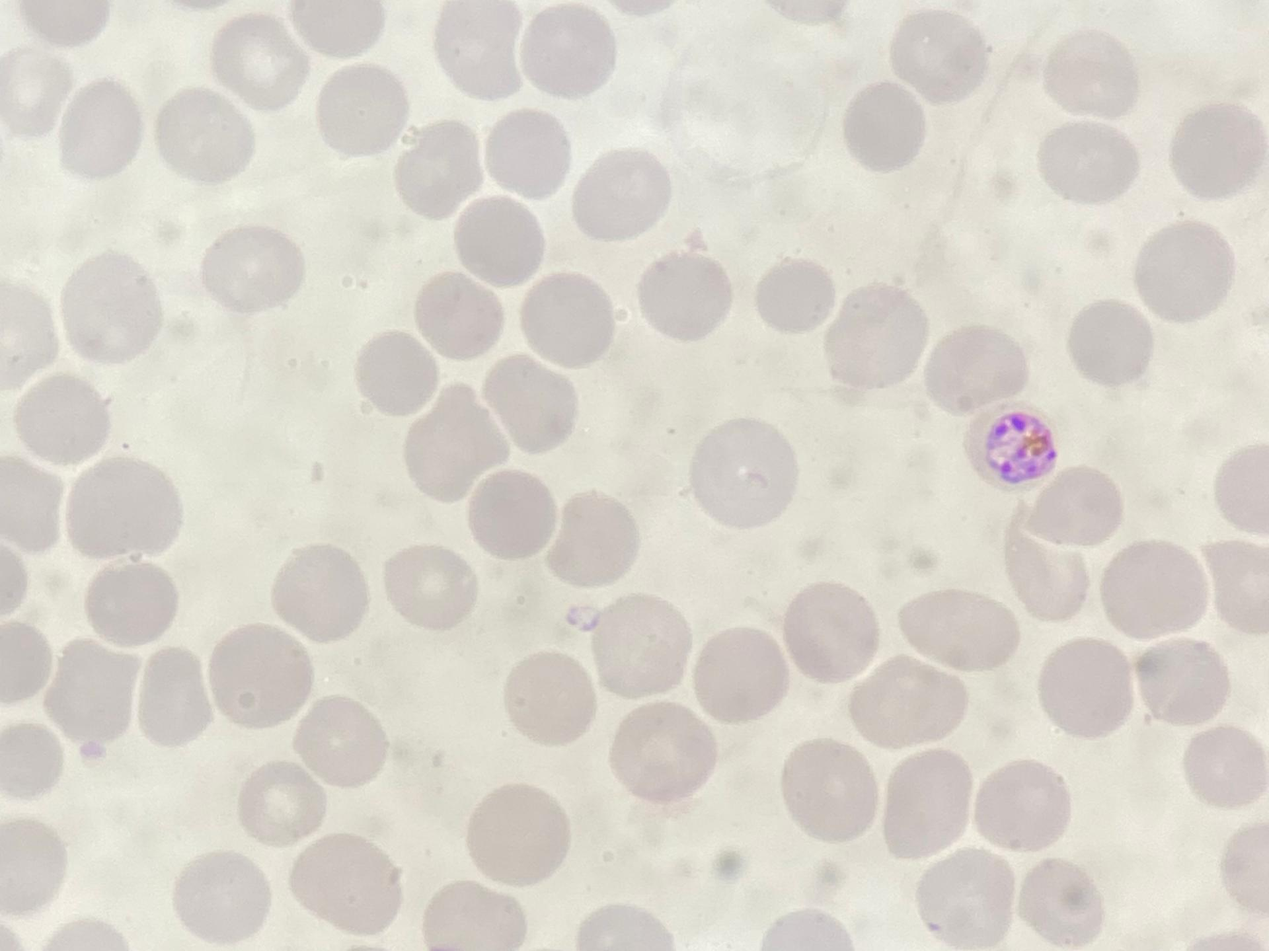Infected: (962, 403, 1059, 492)
Uninfected: (65, 454, 184, 562), (402, 385, 509, 502), (285, 831, 403, 936), (687, 418, 798, 528), (59, 250, 164, 364), (206, 623, 315, 730), (41, 636, 141, 749), (463, 783, 570, 888), (1099, 538, 1208, 641), (821, 285, 928, 389), (848, 656, 966, 749), (586, 593, 691, 697), (609, 701, 716, 803), (880, 748, 978, 858), (780, 738, 880, 845), (896, 587, 1019, 673), (1133, 220, 1236, 322), (781, 582, 882, 685), (913, 849, 1015, 950), (154, 86, 256, 186), (1037, 637, 1136, 738), (270, 543, 370, 642), (570, 146, 673, 242), (483, 352, 582, 451), (81, 556, 183, 652), (1003, 511, 1090, 623), (544, 490, 642, 589), (1167, 102, 1266, 200), (201, 223, 305, 315), (519, 270, 617, 367), (13, 371, 110, 469), (972, 757, 1069, 854), (691, 628, 788, 724), (291, 695, 389, 790), (889, 9, 989, 102), (172, 851, 272, 944), (922, 324, 1025, 414), (433, 1, 528, 98), (58, 77, 147, 180), (465, 467, 561, 562), (518, 5, 616, 98), (211, 13, 309, 106), (315, 63, 410, 158), (1132, 636, 1231, 727), (1038, 119, 1141, 205), (452, 192, 547, 285), (636, 249, 732, 341), (393, 123, 485, 219), (412, 269, 508, 361), (501, 651, 597, 743), (483, 108, 576, 202), (384, 542, 481, 630), (1042, 28, 1140, 115), (1021, 464, 1122, 546), (1015, 855, 1103, 948), (135, 644, 213, 747), (841, 80, 928, 172), (1067, 299, 1155, 387), (237, 759, 326, 845), (354, 330, 440, 416), (421, 880, 524, 949), (1180, 723, 1264, 807), (0, 44, 73, 134), (0, 454, 64, 556), (1201, 537, 1268, 634), (754, 256, 837, 334), (0, 818, 66, 914), (1, 280, 59, 387), (291, 1, 385, 59), (1211, 443, 1269, 533), (0, 720, 63, 800), (0, 618, 54, 704)
